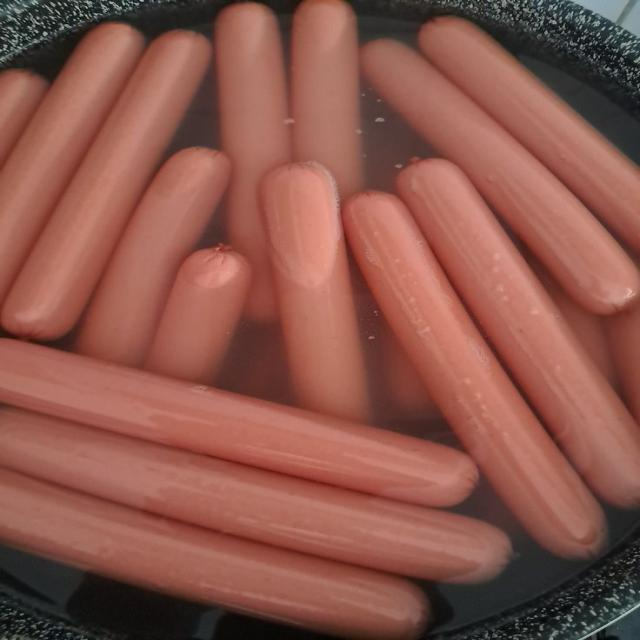sausage: (344, 192, 606, 558), (0, 408, 511, 583), (397, 160, 639, 508), (0, 339, 477, 506), (361, 40, 639, 313), (0, 469, 428, 639), (2, 31, 211, 339), (419, 16, 639, 249), (0, 23, 144, 304), (75, 148, 230, 365), (261, 164, 369, 421), (214, 2, 291, 321), (144, 245, 251, 384), (292, 0, 363, 198), (522, 250, 619, 388), (380, 327, 439, 418), (0, 70, 48, 167), (606, 307, 639, 422)
